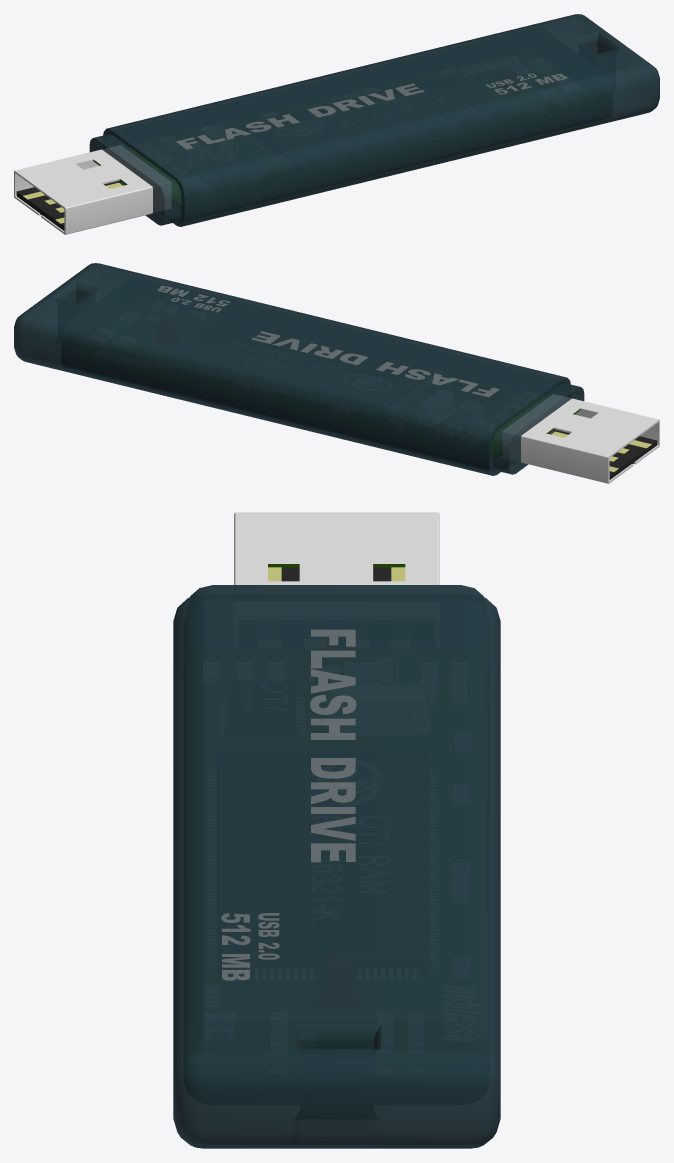
File: Flash-USB_v1.FBX
3 views of the same model, one above another, from view 1: azimuth 30°, elevation 25°; view 2: azimuth 150°, elevation 25°; view 3: azimuth 270°, elevation 25° (orthographic). The views are drawn at different scales.
Visible parts, largest first — view 1: FlashDrive, Platine; view 2: FlashDrive, Platine; view 3: FlashDrive, Platine.
Part boxes in pixels (x1,y1,x2,y2): FlashDrive: (89, 14, 659, 226); Platine: (14, 145, 181, 234); FlashDrive: (14, 263, 584, 475); Platine: (492, 394, 659, 483); FlashDrive: (173, 585, 500, 1148); Platine: (234, 512, 439, 584).
Size of the model in its own units: 305 by 23.76 by 73.89.
